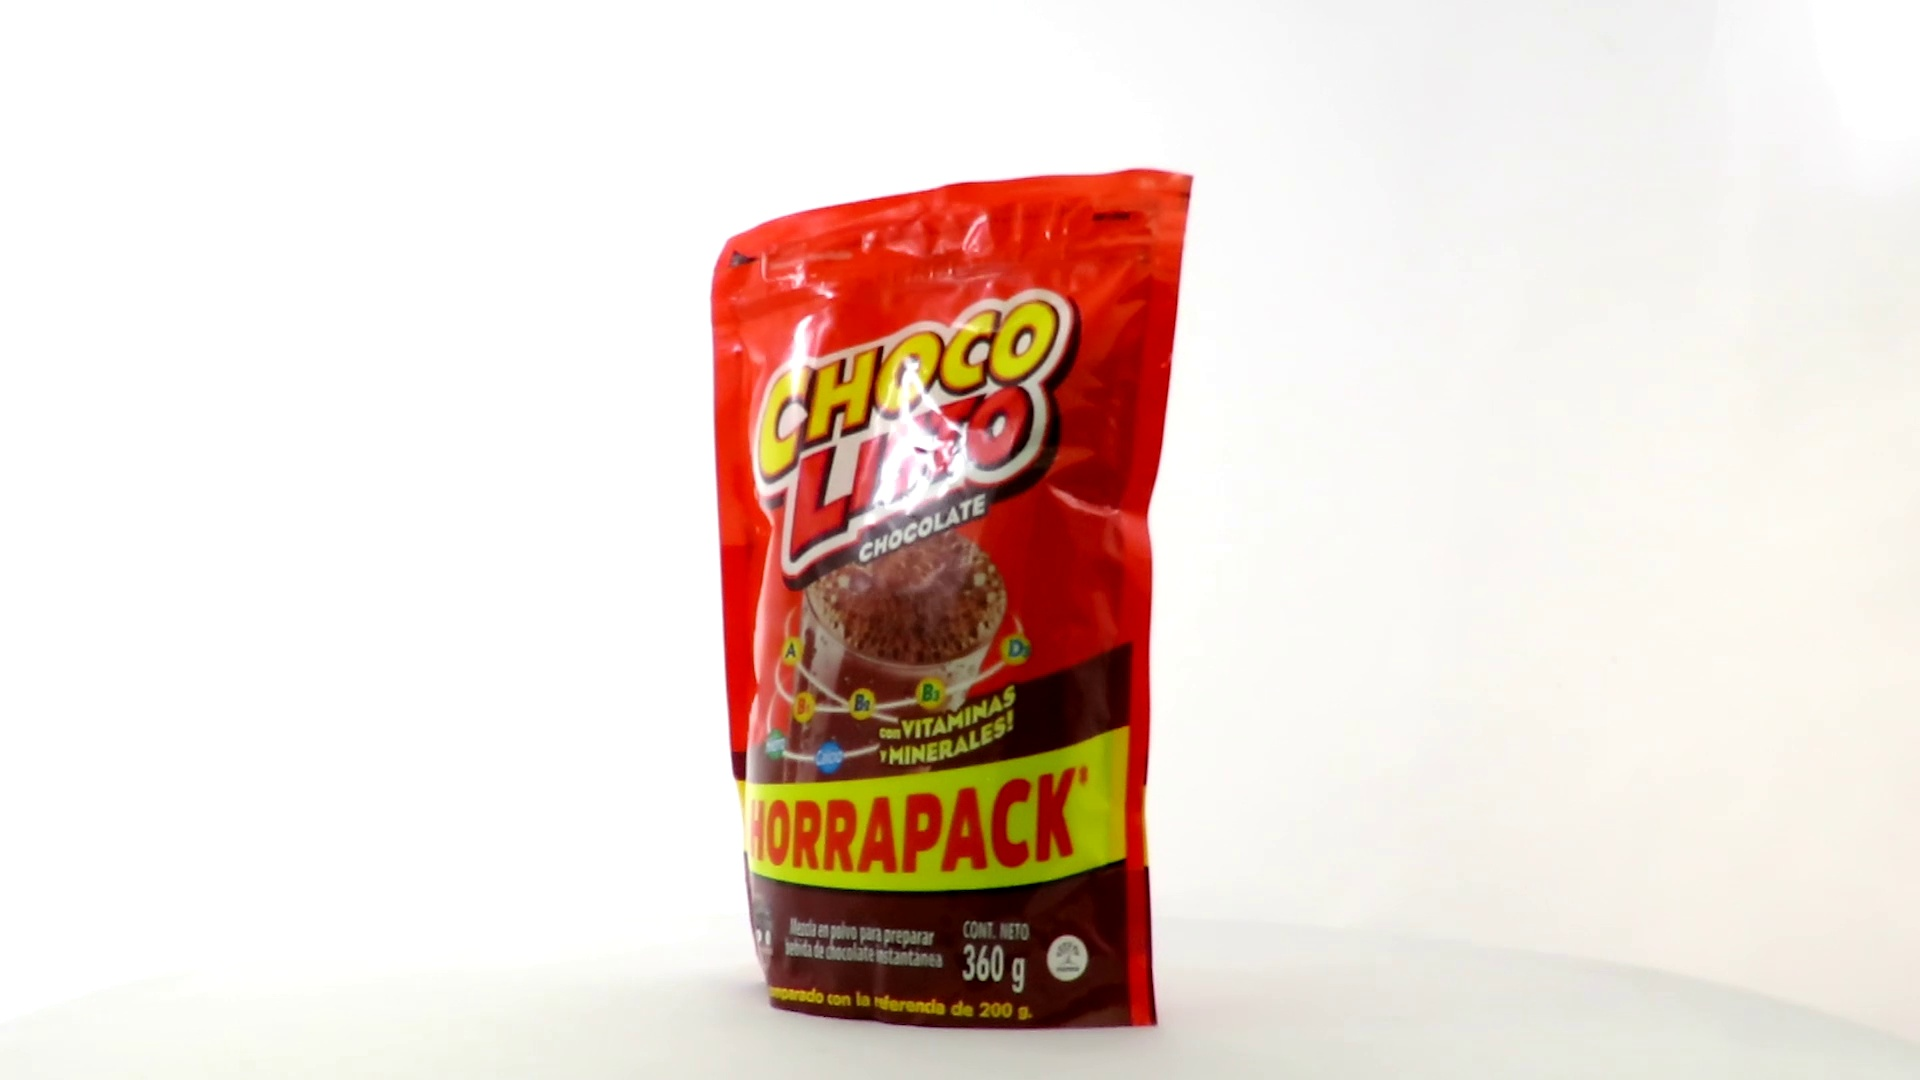COL0170103DYP36000: (705, 164, 1200, 1036)
